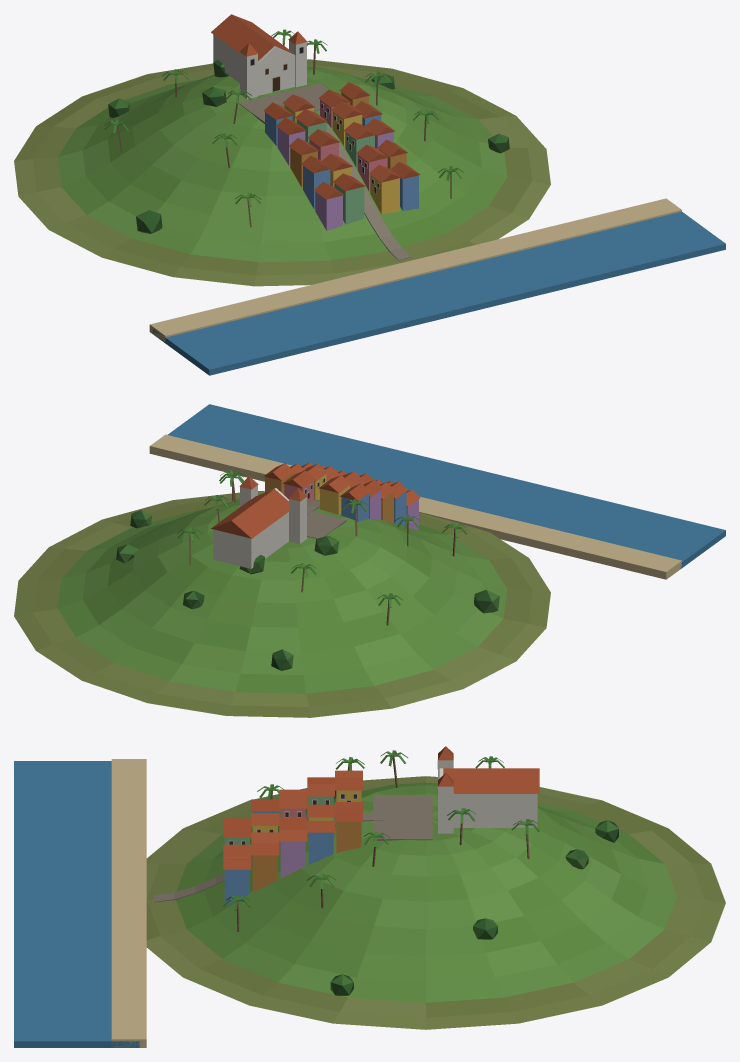
File: olinda_alto_da_se.glb
3 views of the same model, one above another, from view 1: azimuth 30°, elevation 25°; view 2: azimuth 150°, elevation 25°; view 3: azimuth 270°, elevation 25° (orthographic). The views are drawn at different scales.
Parts seen in each view (by area): view 1: olinda_alto_da_se; view 2: olinda_alto_da_se; view 3: olinda_alto_da_se.
Boxes of the visible parts, x1,y1,x2,y2 form: olinda_alto_da_se: [14, 14, 725, 375]; olinda_alto_da_se: [14, 404, 725, 717]; olinda_alto_da_se: [14, 746, 725, 1047].
Bounding box in the file's own units: 190 × 46.9 × 204.
